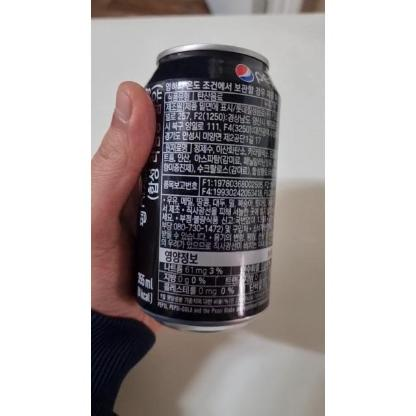Can: (134, 44, 280, 334)
